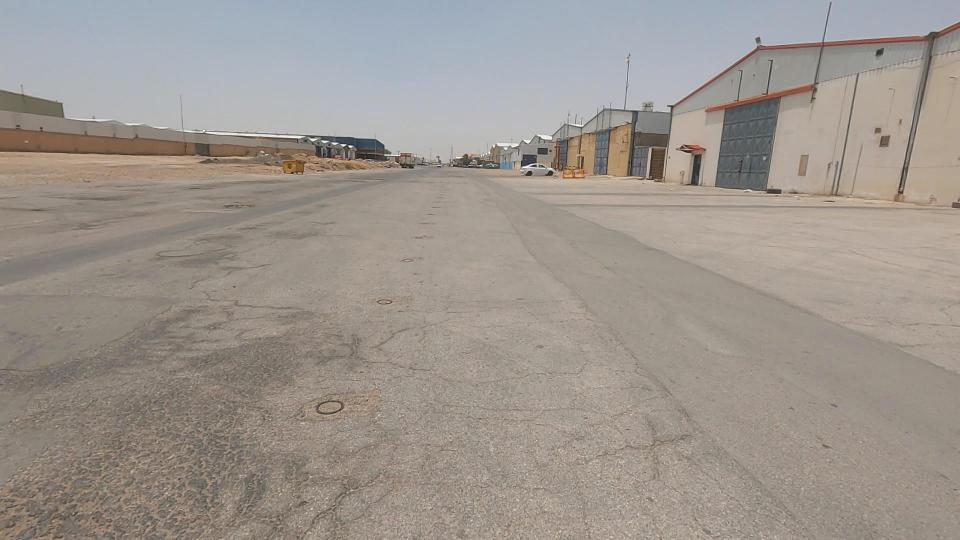POTHOLES: (173, 166, 305, 258)
